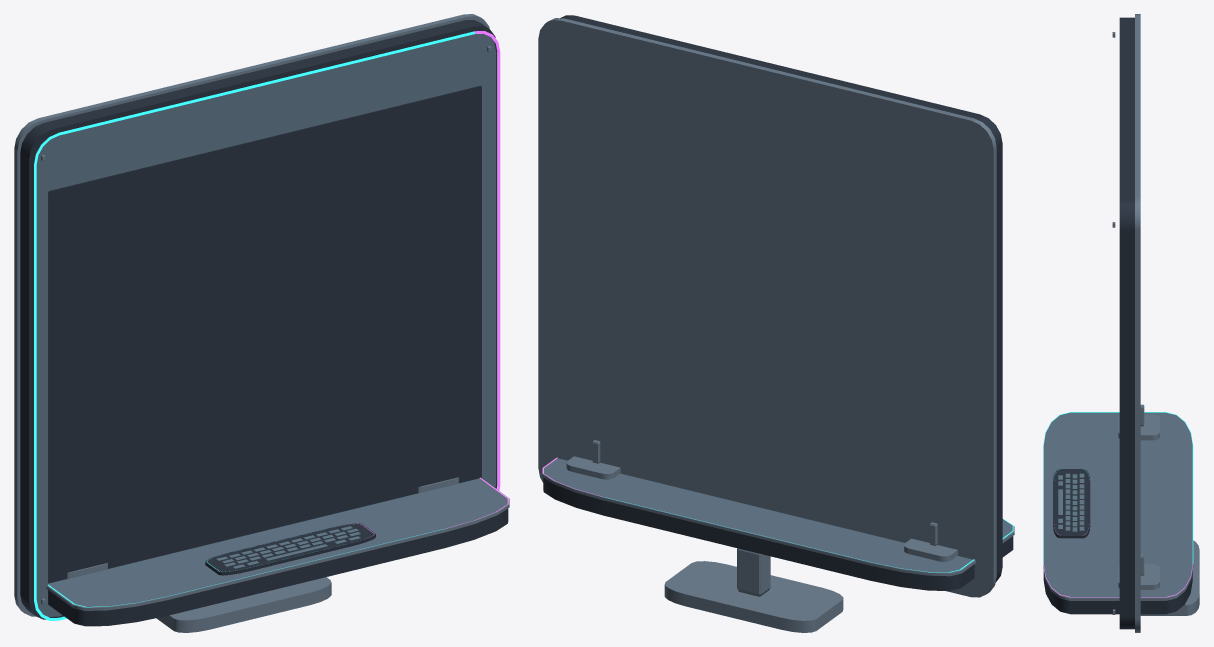
The model's file is pr801-reference-workstation.glb.
3 renders of one model, left to right at view 1: azimuth 30°, elevation 25°; view 2: azimuth 150°, elevation 25°; view 3: azimuth 270°, elevation 25°, orthographic. The views are drawn at different scales.
Visible parts, largest first — view 1: screen-back, monitor-bezel, monitor-glass, desk-bevel, desk-glass, desk, screen-rear-bevel, monitor-rim, stand-foot, keyboard-case, keyboard-keys; view 2: screen-rear-bevel, desk-bevel, desk-glass, stand-foot, desk, screen-back, stand, side-1-foot, side--1-foot; view 3: desk-bevel, desk-glass, screen-back, screen-rear-bevel, keyboard-case, desk, keyboard-keys, stand-foot, desk-rim, side--1-foot, side-1-foot.
Boxes of the visible parts, <box> form: screen-back: <box>20,20,497,619</box>; monitor-bezel: <box>34,33,495,616</box>; monitor-glass: <box>37,34,496,617</box>; desk-bevel: <box>46,478,509,610</box>; desk-glass: <box>48,478,507,606</box>; desk: <box>48,508,508,626</box>; screen-rear-bevel: <box>14,14,489,616</box>; monitor-rim: <box>34,31,500,620</box>; stand-foot: <box>156,577,331,632</box>; keyboard-case: <box>205,523,375,575</box>; keyboard-keys: <box>216,526,360,568</box>; screen-rear-bevel: <box>538,18,996,597</box>; desk-bevel: <box>542,458,1014,576</box>; desk-glass: <box>544,458,1012,572</box>; stand-foot: <box>664,561,843,632</box>; desk: <box>543,477,1013,590</box>; screen-back: <box>560,15,1002,582</box>; stand: <box>737,548,770,596</box>; side-1-foot: <box>566,456,620,479</box>; side--1-foot: <box>904,538,957,561</box>; desk-bevel: <box>1043,412,1193,600</box>; desk-glass: <box>1044,413,1192,596</box>; screen-back: <box>1119,17,1134,629</box>; screen-rear-bevel: <box>1135,14,1140,632</box>; keyboard-case: <box>1053,469,1090,538</box>; desk: <box>1043,571,1192,614</box>; keyboard-keys: <box>1058,473,1084,531</box>; stand-foot: <box>1140,540,1199,615</box>; desk-rim: <box>1043,412,1193,597</box>; side--1-foot: <box>1118,414,1159,440</box>; side-1-foot: <box>1118,564,1159,589</box>.
Size of the model in its own units: 1.03 by 1.13 by 0.336.
